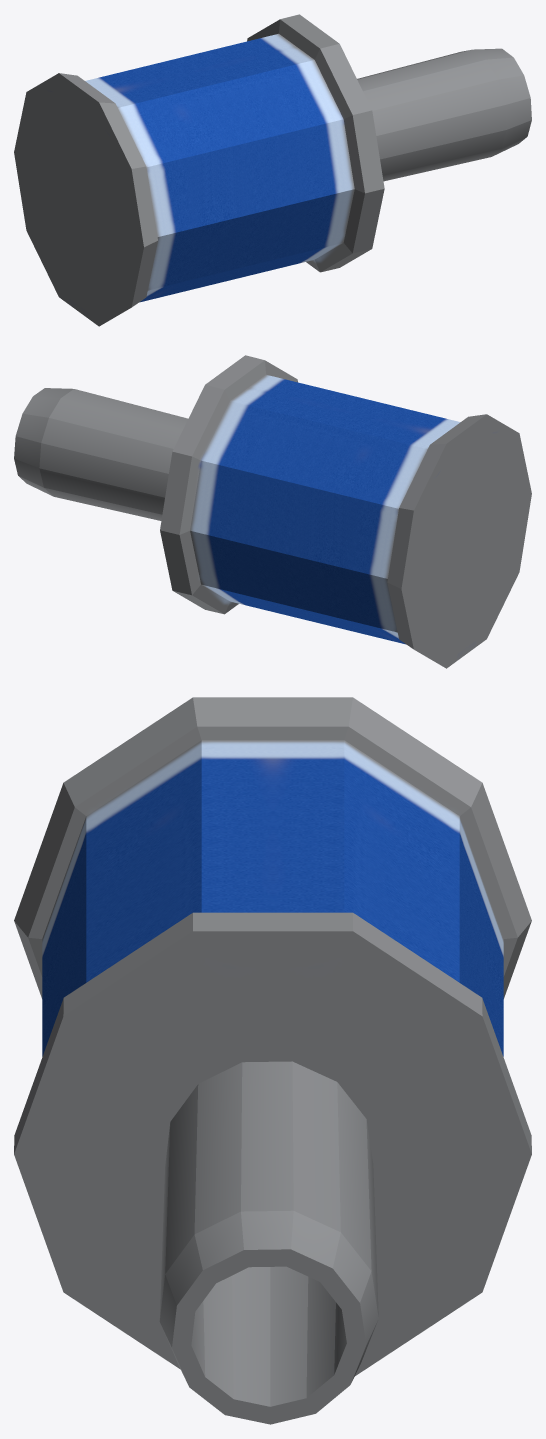
Rendered from PaintCan_Supressor_barrel.fbx.
3 renders of one model, top to bottom at view 1: azimuth 30°, elevation 25°; view 2: azimuth 150°, elevation 25°; view 3: azimuth 270°, elevation 25°, orthographic. The views are drawn at different scales.
Parts seen in each view (by area): view 1: Paint_Can_Supressor_Barrel; view 2: Paint_Can_Supressor_Barrel; view 3: Paint_Can_Supressor_Barrel.
Part boxes in pixels (<box>): Paint_Can_Supressor_Barrel: <box>14,14,531,326</box>; Paint_Can_Supressor_Barrel: <box>14,355,531,668</box>; Paint_Can_Supressor_Barrel: <box>14,697,531,1424</box>.
Bounding box in the file's own units: 48.75 × 24.43 × 25.68.
